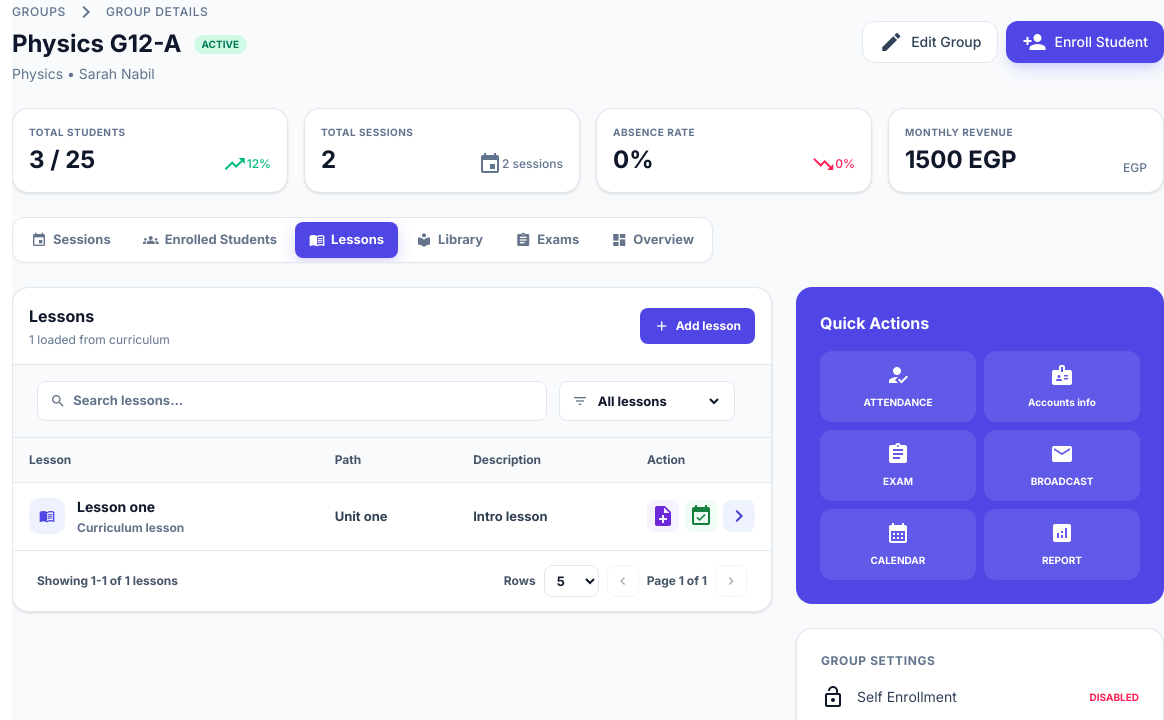
Test case: TenantGroupDetailsComponent › keeps the lesson picker available after auto syncing curriculum lessons
Click the button "Add lesson" at (697, 326), box [640,308,755,344]
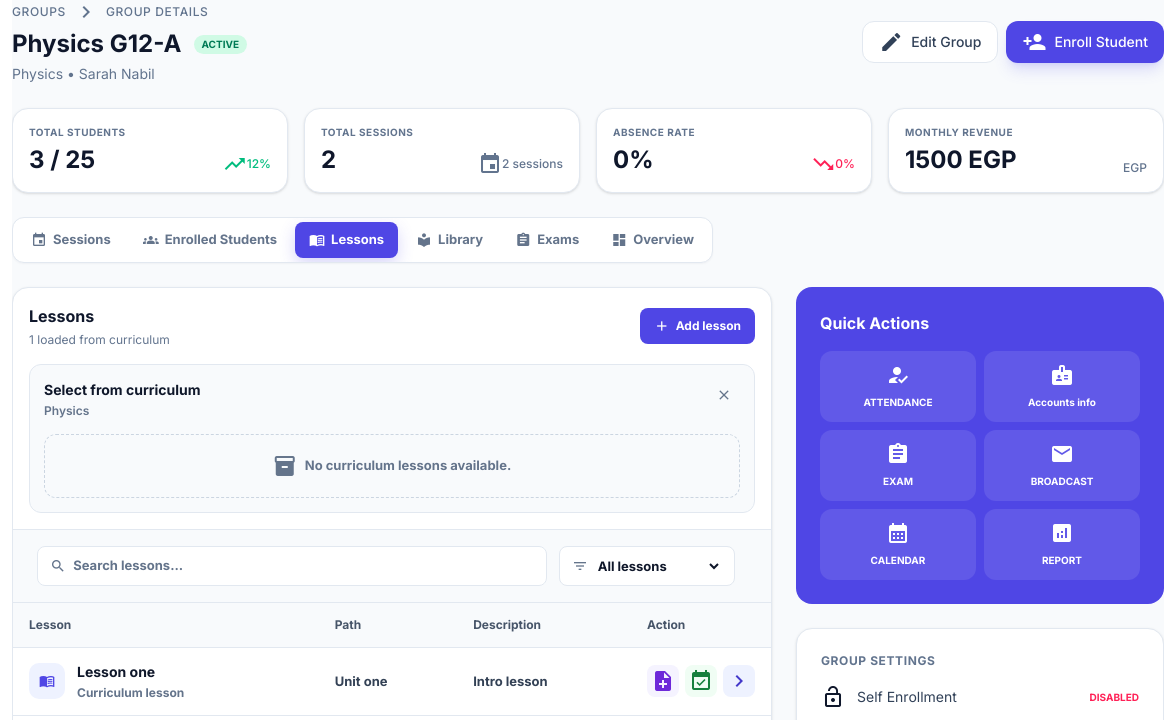
Expected: the text "1 loaded from curriculum" is shown, [29,332,170,348]
Now the text "Select from curriculum" is shown, box [44,379,200,400]
Now the text "No curriculum lessons available." is shown, box [305,456,511,476]
